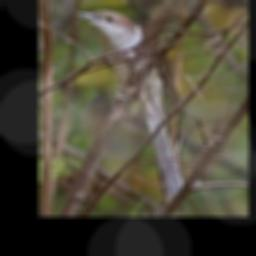Cuckoo: (79, 10, 186, 194)
